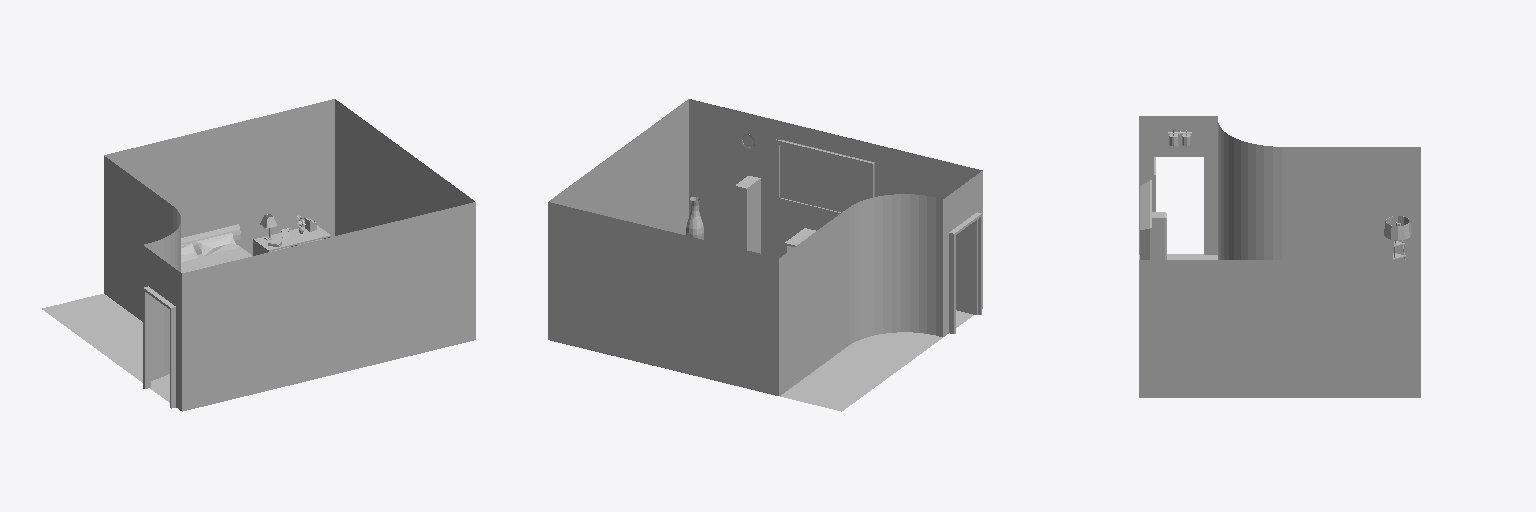
Rendered from interior.obj.
3 views of the same model, side by side, from view 1: azimuth 30°, elevation 25°; view 2: azimuth 150°, elevation 25°; view 3: azimuth 270°, elevation 25° (orthographic).
Visible parts, largest first — view 1: wall_r_13, wall_l_11, wall_f_0, wall_b_12, Floor_24, Door fra_3, Bedside _8, Pillows_19, matress_25, Bed_5; view 2: wall_l_11, wall_f_0, wall_r_13, wall_b_12, Floor_24, TV_1, Door01_10, Speaker1_26, Door fra_3; view 3: wall_b_12, wall_f_0, TV_1, Speaker2_28, Lamp sha_14, Door fra_3.
Boxes of the visible parts, x1=… form: wall_r_13: x1=182, y1=202, x2=475, y2=411; wall_l_11: x1=104, y1=99, x2=334, y2=255; wall_f_0: x1=104, y1=156, x2=181, y2=410; wall_b_12: x1=335, y1=99, x2=474, y2=235; Floor_24: x1=42, y1=294, x2=169, y2=401; Door fra_3: x1=143, y1=286, x2=175, y2=408; Bedside _8: x1=253, y1=225, x2=330, y2=255; Pillows_19: x1=181, y1=233, x2=238, y2=261; matress_25: x1=181, y1=245, x2=251, y2=272; Bed_5: x1=181, y1=224, x2=240, y2=254; wall_l_11: x1=548, y1=202, x2=778, y2=395; wall_f_0: x1=779, y1=171, x2=982, y2=395; wall_r_13: x1=689, y1=99, x2=982, y2=257; wall_b_12: x1=549, y1=99, x2=688, y2=234; Floor_24: x1=780, y1=310, x2=972, y2=411; TV_1: x1=775, y1=139, x2=874, y2=215; Door01_10: x1=956, y1=219, x2=977, y2=314; Speaker1_26: x1=736, y1=176, x2=760, y2=253; Door fra_3: x1=949, y1=212, x2=981, y2=333; wall_b_12: x1=1139, y1=260, x2=1420, y2=397; wall_f_0: x1=1139, y1=116, x2=1420, y2=259; TV_1: x1=1140, y1=180, x2=1151, y2=259; Speaker2_28: x1=1152, y1=212, x2=1166, y2=259; Lamp sha_14: x1=1384, y1=216, x2=1411, y2=239; Door fra_3: x1=1151, y1=154, x2=1205, y2=254.
Bounding box in the file's own units: 403 × 178 × 329.